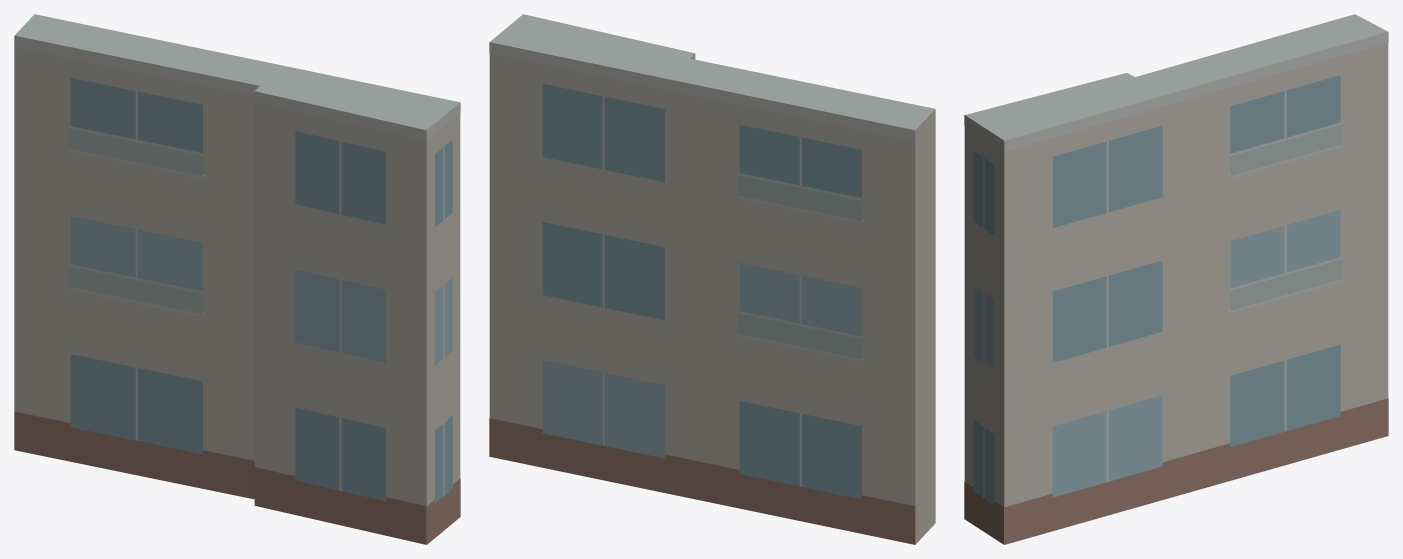
File: survey-upis-32657953.glb
3 renders of one model, left to right at view 1: azimuth 30°, elevation 25°; view 2: azimuth 210°, elevation 25°; view 3: azimuth 270°, elevation 25°, orthographic. The views are drawn at different scales.
Parts seen in each view (by area): view 1: survey-upis-32657953.tmp; view 2: survey-upis-32657953.tmp; view 3: survey-upis-32657953.tmp.
Part boxes in pixels (x1=…): survey-upis-32657953.tmp: x1=14, y1=14, x2=460, y2=544; survey-upis-32657953.tmp: x1=489, y1=14, x2=935, y2=544; survey-upis-32657953.tmp: x1=964, y1=14, x2=1388, y2=544.
Bounding box in the file's own units: 6.16 × 9.15 × 8.7.
